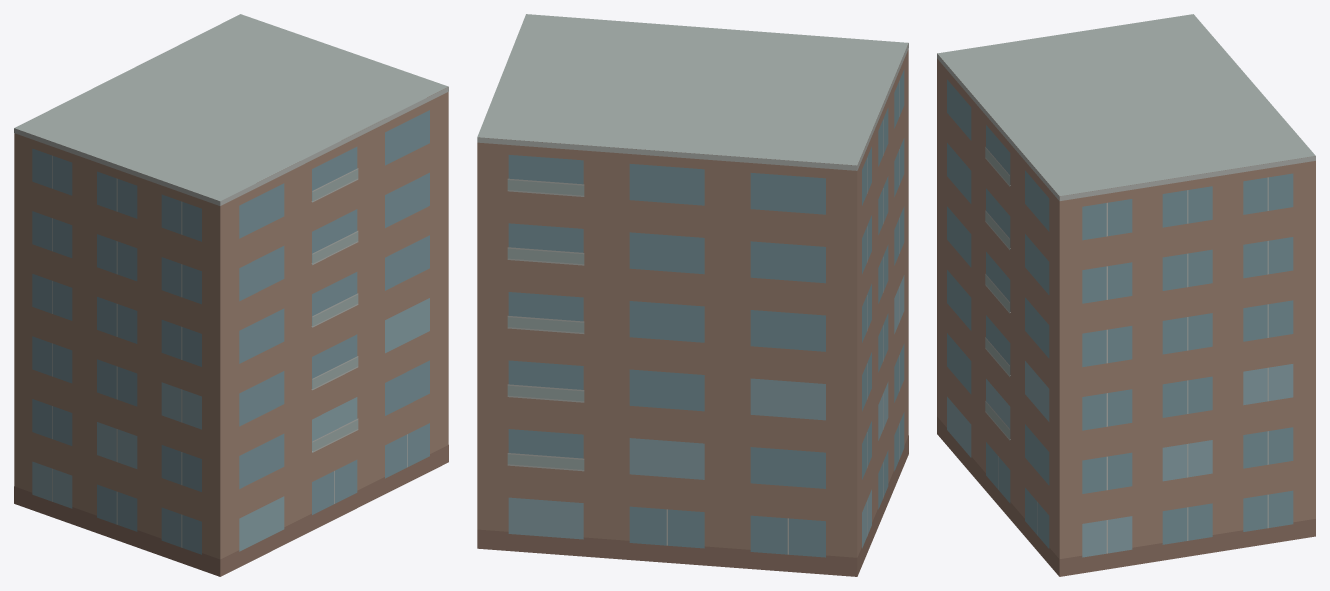
Rendered from survey-upis-32843953.glb.
The picture shows the model from 3 angles, left to right: view 1: azimuth 30°, elevation 25°; view 2: azimuth 150°, elevation 25°; view 3: azimuth 270°, elevation 25°; orthographic projection. The views are drawn at different scales.
Visible parts, largest first — view 1: survey-upis-32843953.tmp; view 2: survey-upis-32843953.tmp; view 3: survey-upis-32843953.tmp.
Boxes of the visible parts, x1=… form: survey-upis-32843953.tmp: x1=14, y1=14, x2=448, y2=576; survey-upis-32843953.tmp: x1=477, y1=14, x2=908, y2=576; survey-upis-32843953.tmp: x1=937, y1=14, x2=1315, y2=576.
Size of the model in its own units: 19.13 by 18.62 by 16.8.
